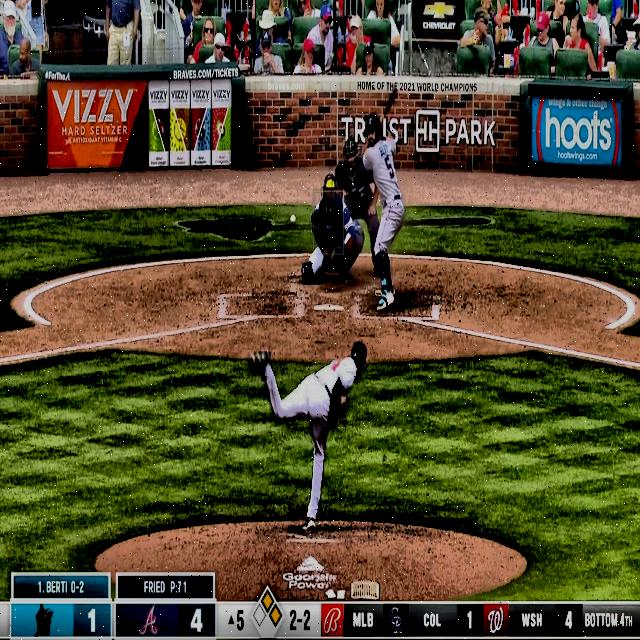baseball: (290, 213, 296, 224)
